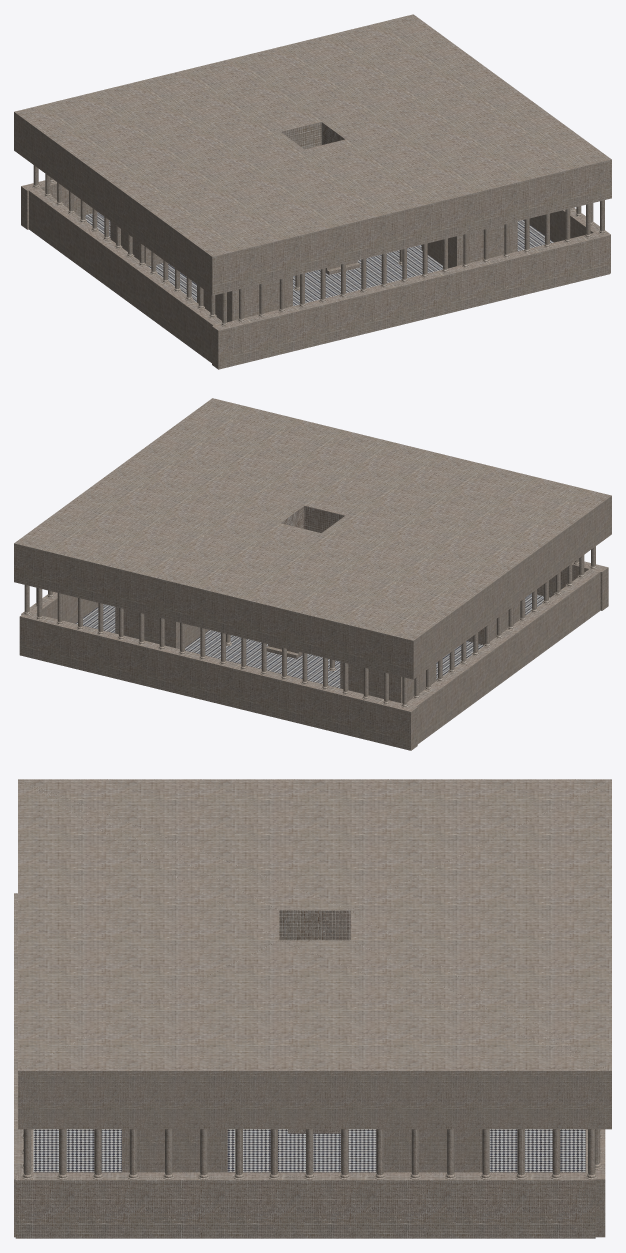
File: straftat map-2.fbx
3 views of the same model, one above another, from view 1: azimuth 30°, elevation 25°; view 2: azimuth 150°, elevation 25°; view 3: azimuth 270°, elevation 25° (orthographic). The views are drawn at different scales.
Visible parts, largest first — view 1: Cube.007, Cube.011, Cube.012, Cube, Cylinder.007, Cylinder.004, Cube.016, Cube.015, Cube.013, Cube.003, Cube.006; view 2: Cube.007, Cube.003, Cube.012, Cube, Cylinder.008, Cylinder.004, Cube.006, Cube.014, Cube.013, Cube.011, Cube.015; view 3: Cube.007, Cube.013, Cube, Cylinder.005, Cube.014, Cube.016, Cube.011, Cube.003.
Boxes of the visible parts, x1,y1,x2,y2 form: Cube.007: (14, 14, 611, 295); Cube.011: (212, 231, 609, 369); Cube.012: (26, 186, 230, 362); Cube: (80, 212, 553, 305); Cylinder.007: (237, 203, 592, 322); Cylinder.004: (32, 165, 228, 326); Cube.016: (421, 221, 517, 268); Cube.015: (197, 276, 292, 322); Cube.013: (524, 207, 610, 273); Cube.003: (21, 180, 97, 229); Cube.006: (110, 221, 163, 266); Cube.007: (14, 398, 611, 679); Cube.003: (19, 613, 417, 750); Cube.012: (407, 566, 606, 744); Cube: (75, 593, 549, 688); Cylinder.008: (35, 588, 390, 704); Cylinder.004: (401, 546, 597, 707); Cube.006: (340, 662, 436, 703); Cube.014: (115, 607, 208, 648); Cube.013: (21, 592, 98, 623); Cube.011: (537, 561, 608, 610); Cube.015: (467, 602, 520, 644); Cube.007: (18, 779, 611, 1129); Cube.013: (15, 1172, 595, 1238); Cube: (33, 1129, 585, 1172); Cylinder.005: (21, 1129, 597, 1179); Cube.014: (384, 1129, 482, 1172); Cube.016: (122, 1129, 227, 1172); Cube.011: (14, 893, 33, 1237); Cube.003: (585, 1129, 605, 1237).
Size of the model in its own units: 63.98 by 17.5 by 55.43.
Materials: 8 (8 with a texture image).
